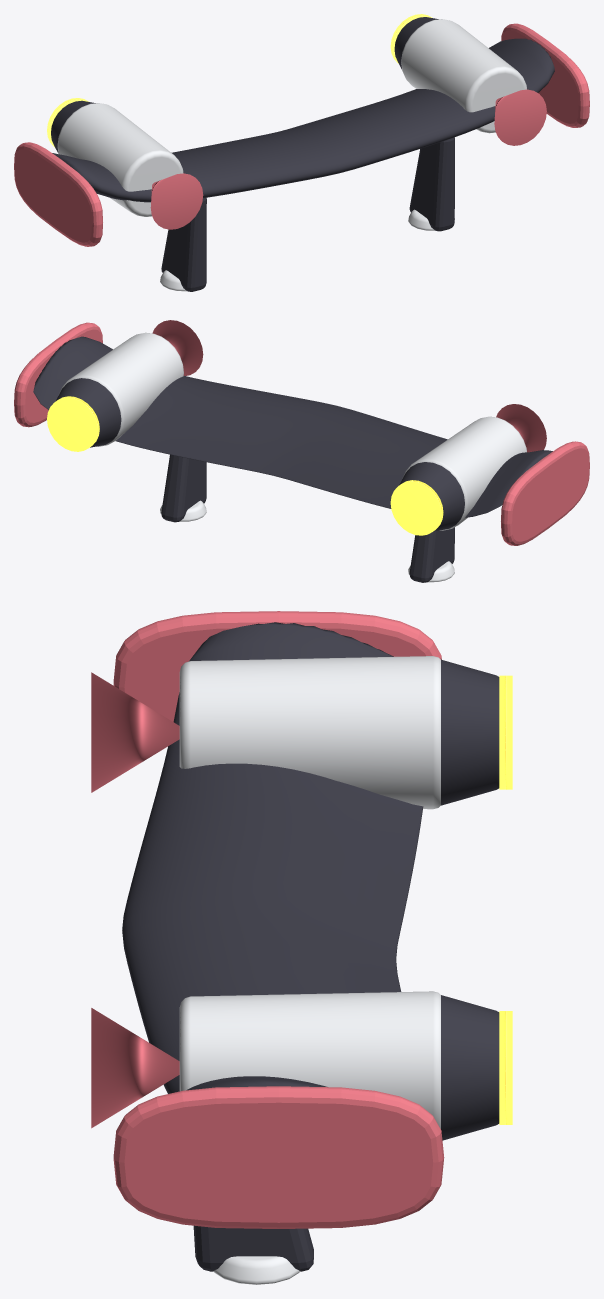
File: spoiler-roket.glb
3 renders of one model, top to bottom at view 1: azimuth 30°, elevation 25°; view 2: azimuth 150°, elevation 25°; view 3: azimuth 270°, elevation 25°, orthographic. The views are drawn at different scales.
Visible parts, largest first — view 1: wing, thr1, thr-1, plate-1, plate1, post1, post-1, cone1, cone-1, noz1, noz-1; view 2: wing, plate-1, thr1, thr-1, plate1, post1, fire1, fire-1, noz-1, noz1, post-1, cone1 (+1 smaller); view 3: wing, plate1, thr-1, thr1, plate-1, noz-1, noz1, cone1, cone-1, post1, pad1, fire-1 (+1 smaller).
Boxes of the visible parts, bbox=[...] form: wing: bbox=[52, 38, 554, 202]; thr1: bbox=[401, 19, 526, 133]; thr-1: bbox=[57, 103, 183, 216]; plate-1: bbox=[14, 142, 102, 246]; plate1: bbox=[501, 23, 589, 127]; post1: bbox=[409, 137, 454, 231]; post-1: bbox=[161, 197, 206, 291]; cone1: bbox=[494, 89, 546, 145]; cone-1: bbox=[150, 173, 203, 229]; noz1: bbox=[394, 17, 438, 69]; noz-1: bbox=[51, 100, 95, 153]; wing: bbox=[33, 336, 552, 517]; plate-1: bbox=[501, 441, 589, 545]; thr1: bbox=[59, 332, 183, 446]; thr-1: bbox=[402, 416, 526, 530]; plate1: bbox=[14, 322, 102, 427]; post1: bbox=[161, 454, 206, 522]; fire1: bbox=[47, 396, 99, 451]; fire-1: bbox=[390, 480, 443, 535]; noz-1: bbox=[399, 462, 464, 531]; noz1: bbox=[56, 378, 121, 447]; post-1: bbox=[409, 527, 454, 582]; cone1: bbox=[152, 320, 203, 375]; wing: bbox=[122, 622, 423, 1093]; plate1: bbox=[113, 1086, 444, 1228]; thr-1: bbox=[179, 656, 440, 809]; thr1: bbox=[179, 991, 440, 1128]; plate-1: bbox=[113, 611, 441, 721]; noz-1: bbox=[441, 659, 499, 805]; noz1: bbox=[441, 995, 499, 1140]; cone1: bbox=[91, 1008, 179, 1128]; cone-1: bbox=[91, 672, 179, 792]; post1: bbox=[193, 1225, 313, 1271]; pad1: bbox=[213, 1256, 300, 1284]; fire-1: bbox=[499, 675, 512, 789].
Size of the model in its own units: 1.04 by 0.3148 by 0.382.
